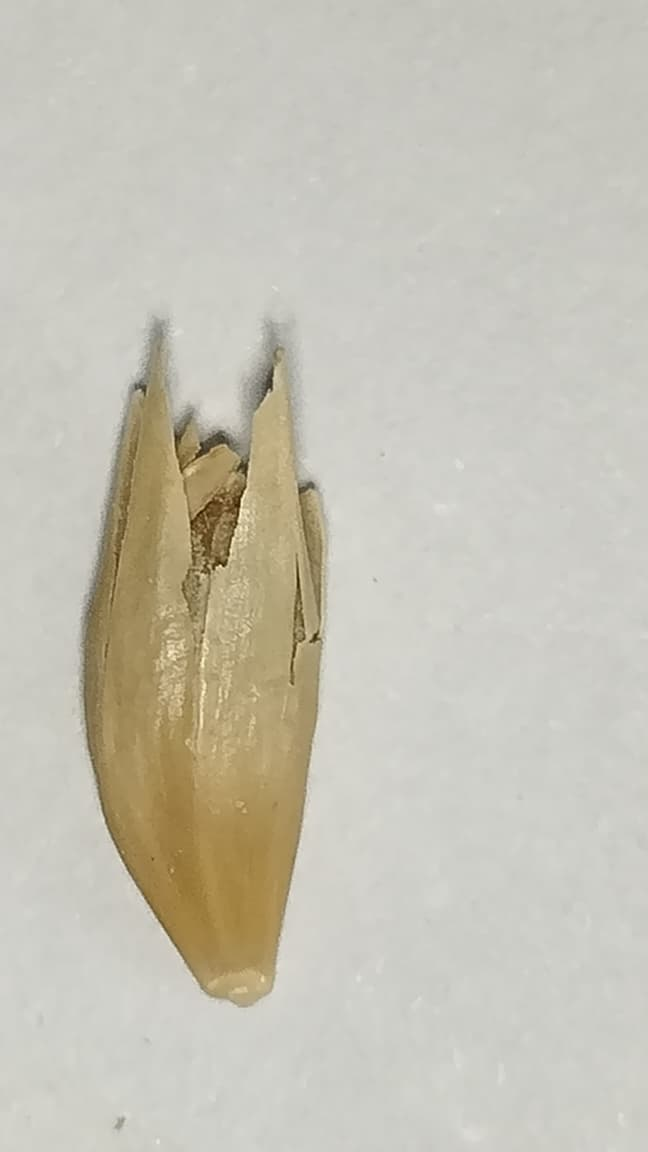healthy-70-60: (87, 327, 321, 1002)
